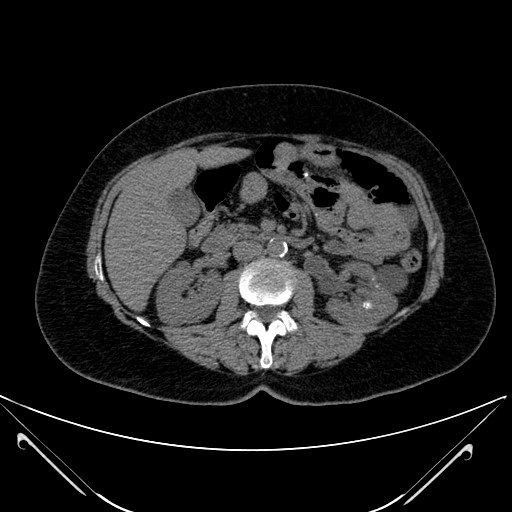vesicula: (163, 184, 204, 231)
